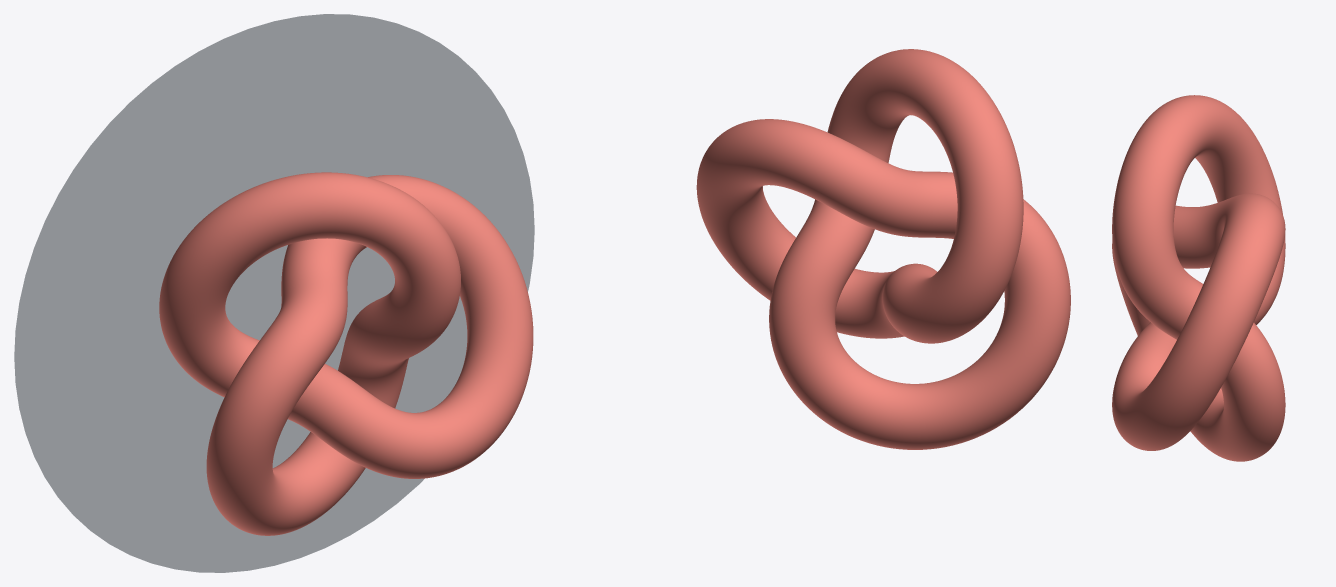
Rendered from knot.glb.
3 views of the same model, side by side, from view 1: azimuth 30°, elevation 25°; view 2: azimuth 150°, elevation 25°; view 3: azimuth 270°, elevation 25° (orthographic). The views are drawn at different scales.
Parts seen in each view (by area): view 1: ground, knot; view 2: knot; view 3: knot.
Boxes of the visible parts, x1=… form: ground: x1=14, y1=14, x2=534, y2=572; knot: x1=159, y1=172, x2=533, y2=535; knot: x1=696, y1=49, x2=1070, y2=449; knot: x1=1112, y1=95, x2=1285, y2=461.
Size of the model in its own units: 10 by 10 by 3.75.
